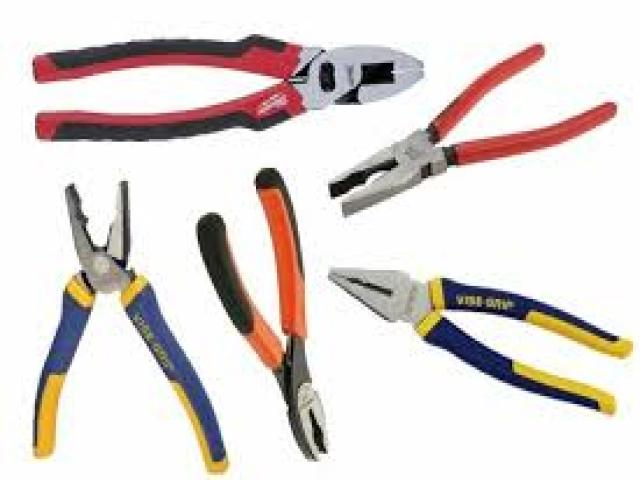Pliers: (35, 182, 228, 471), (331, 45, 616, 215), (323, 269, 635, 420), (34, 35, 424, 140), (198, 168, 328, 459)
